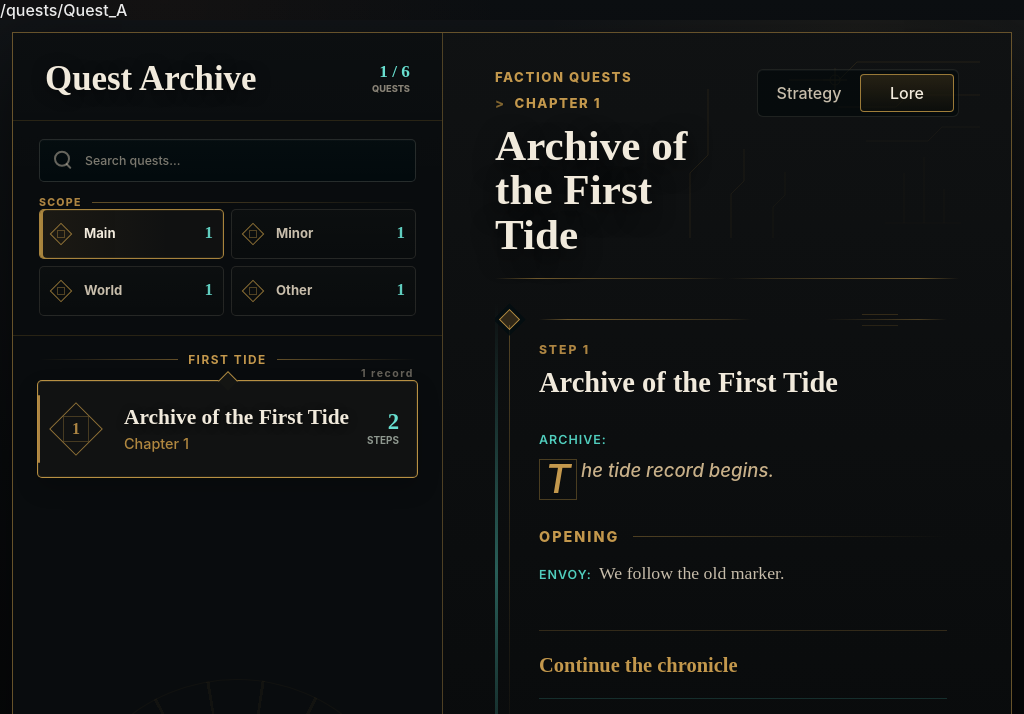
Test: QuestExplorerPage filtering, projection, and rail navigation › falls back to a visible quest and replaces the route when filters hide the selected quest
The width and height of the screenshot is (1024, 714).
Expected: the heading "Archive of the First Tide" is shown, [495,122,687,258]
Click the radio button with aria-label "World Quests" at coordinates (132, 291), box [39,266,224,316]
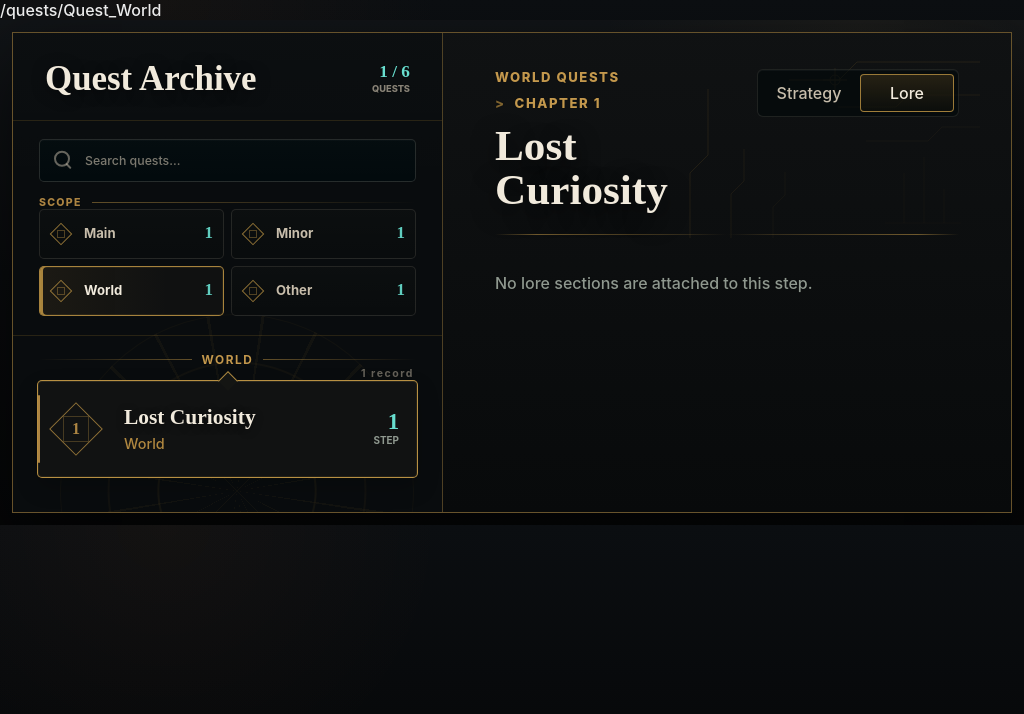
Expected: the heading "Lost Curiosity" is shown, [495,122,668,214]
Expected: the button "Archive of the First Tide" is gone
